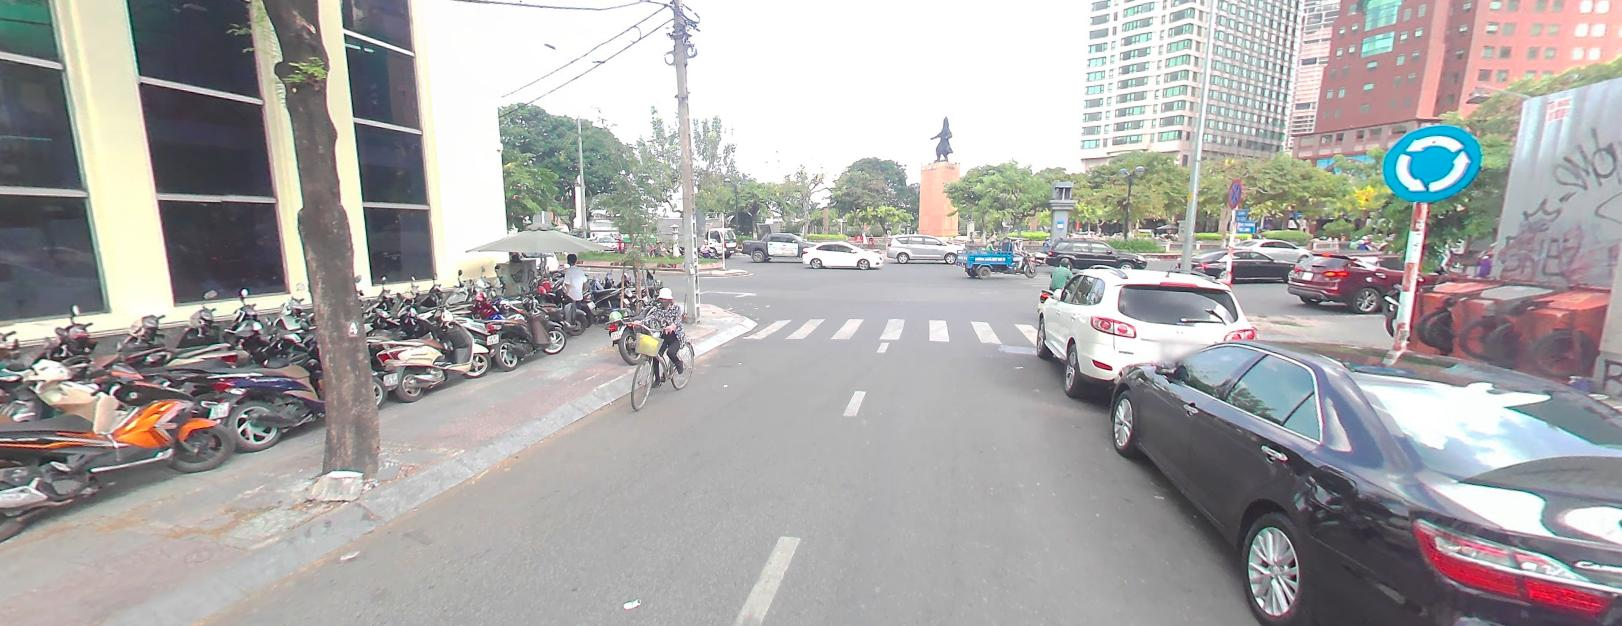Cam dung va do: (1227, 178, 1241, 208)
Hieu lenh: (1383, 126, 1480, 202)
